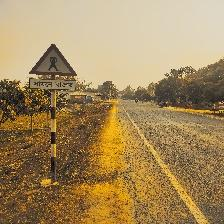Market-in-front: (28, 44, 77, 92)
